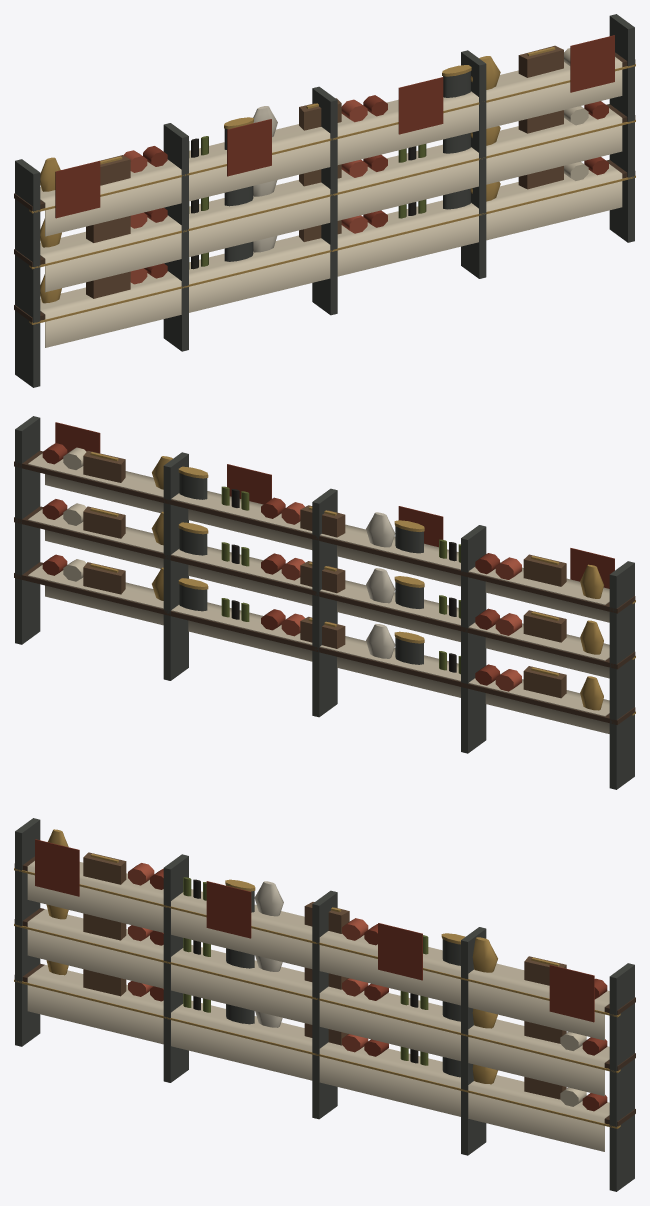
The model's file is goods_shelf_general.glb.
3 views of the same model, one above another, from view 1: azimuth 30°, elevation 25°; view 2: azimuth 150°, elevation 25°; view 3: azimuth 330°, elevation 25° (orthographic).
Parts seen in each view (by area): view 1: goods_shelf_general; view 2: goods_shelf_general; view 3: goods_shelf_general.
Boxes of the visible parts, <box> form: goods_shelf_general: <box>14,14,635,387</box>; goods_shelf_general: <box>14,416,635,789</box>; goods_shelf_general: <box>14,818,635,1191</box>.
Bounding box in the file's own units: 6.8 × 2.3 × 0.385.
